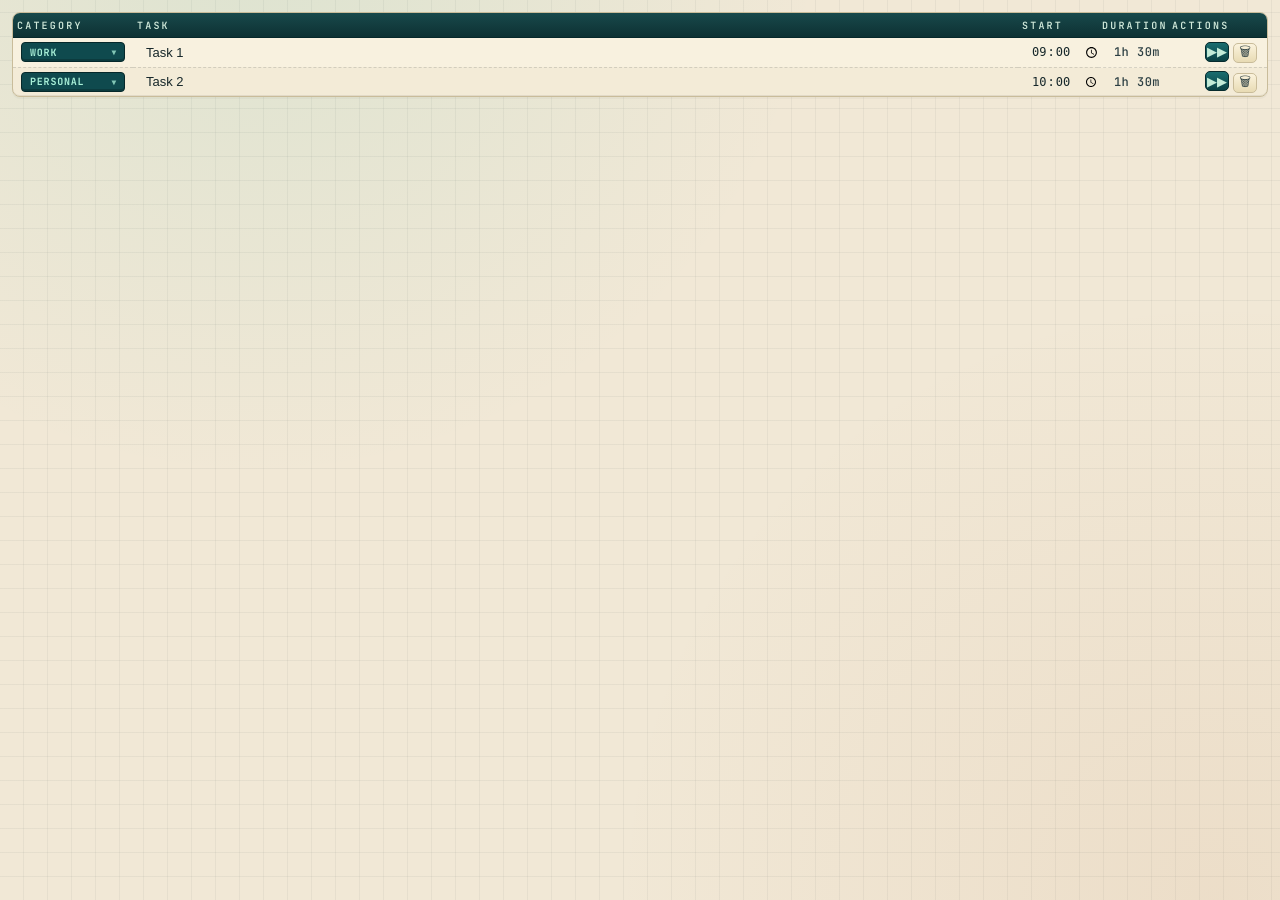
Test case: TaskList Component › Keyboard Event Handling › should handle Escape key in task name input to revert changes
Modify the input value
Replace the text in the 1st field with "Modified Task Name": x=580, y=52 x1=141 y1=40 x2=1020 y2=65
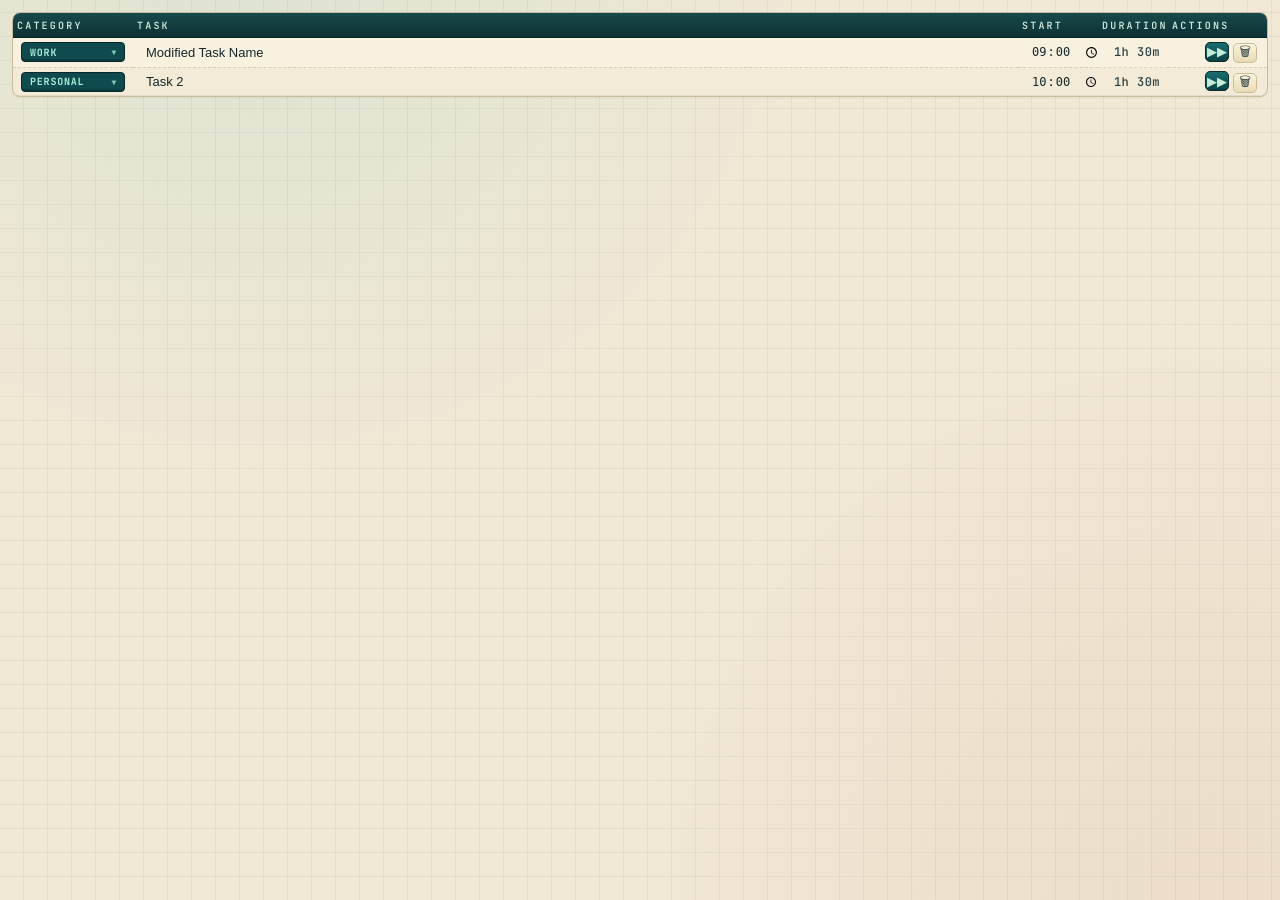
Press Escape key
Press Escape in the 1st field, box x1=141 y1=40 x2=1020 y2=65
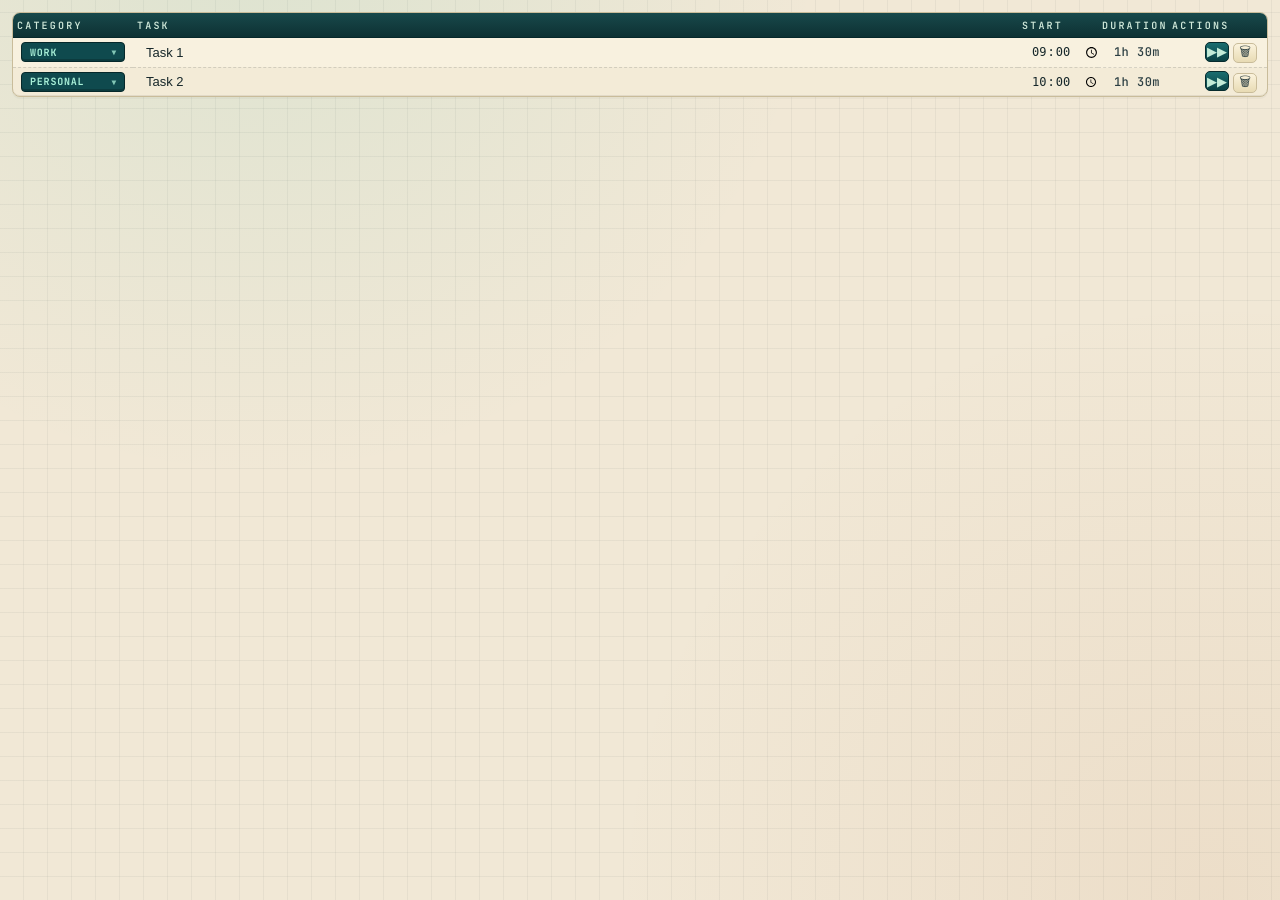
Check: the 1st field holds "Task 1", box x1=141 y1=40 x2=1020 y2=65
